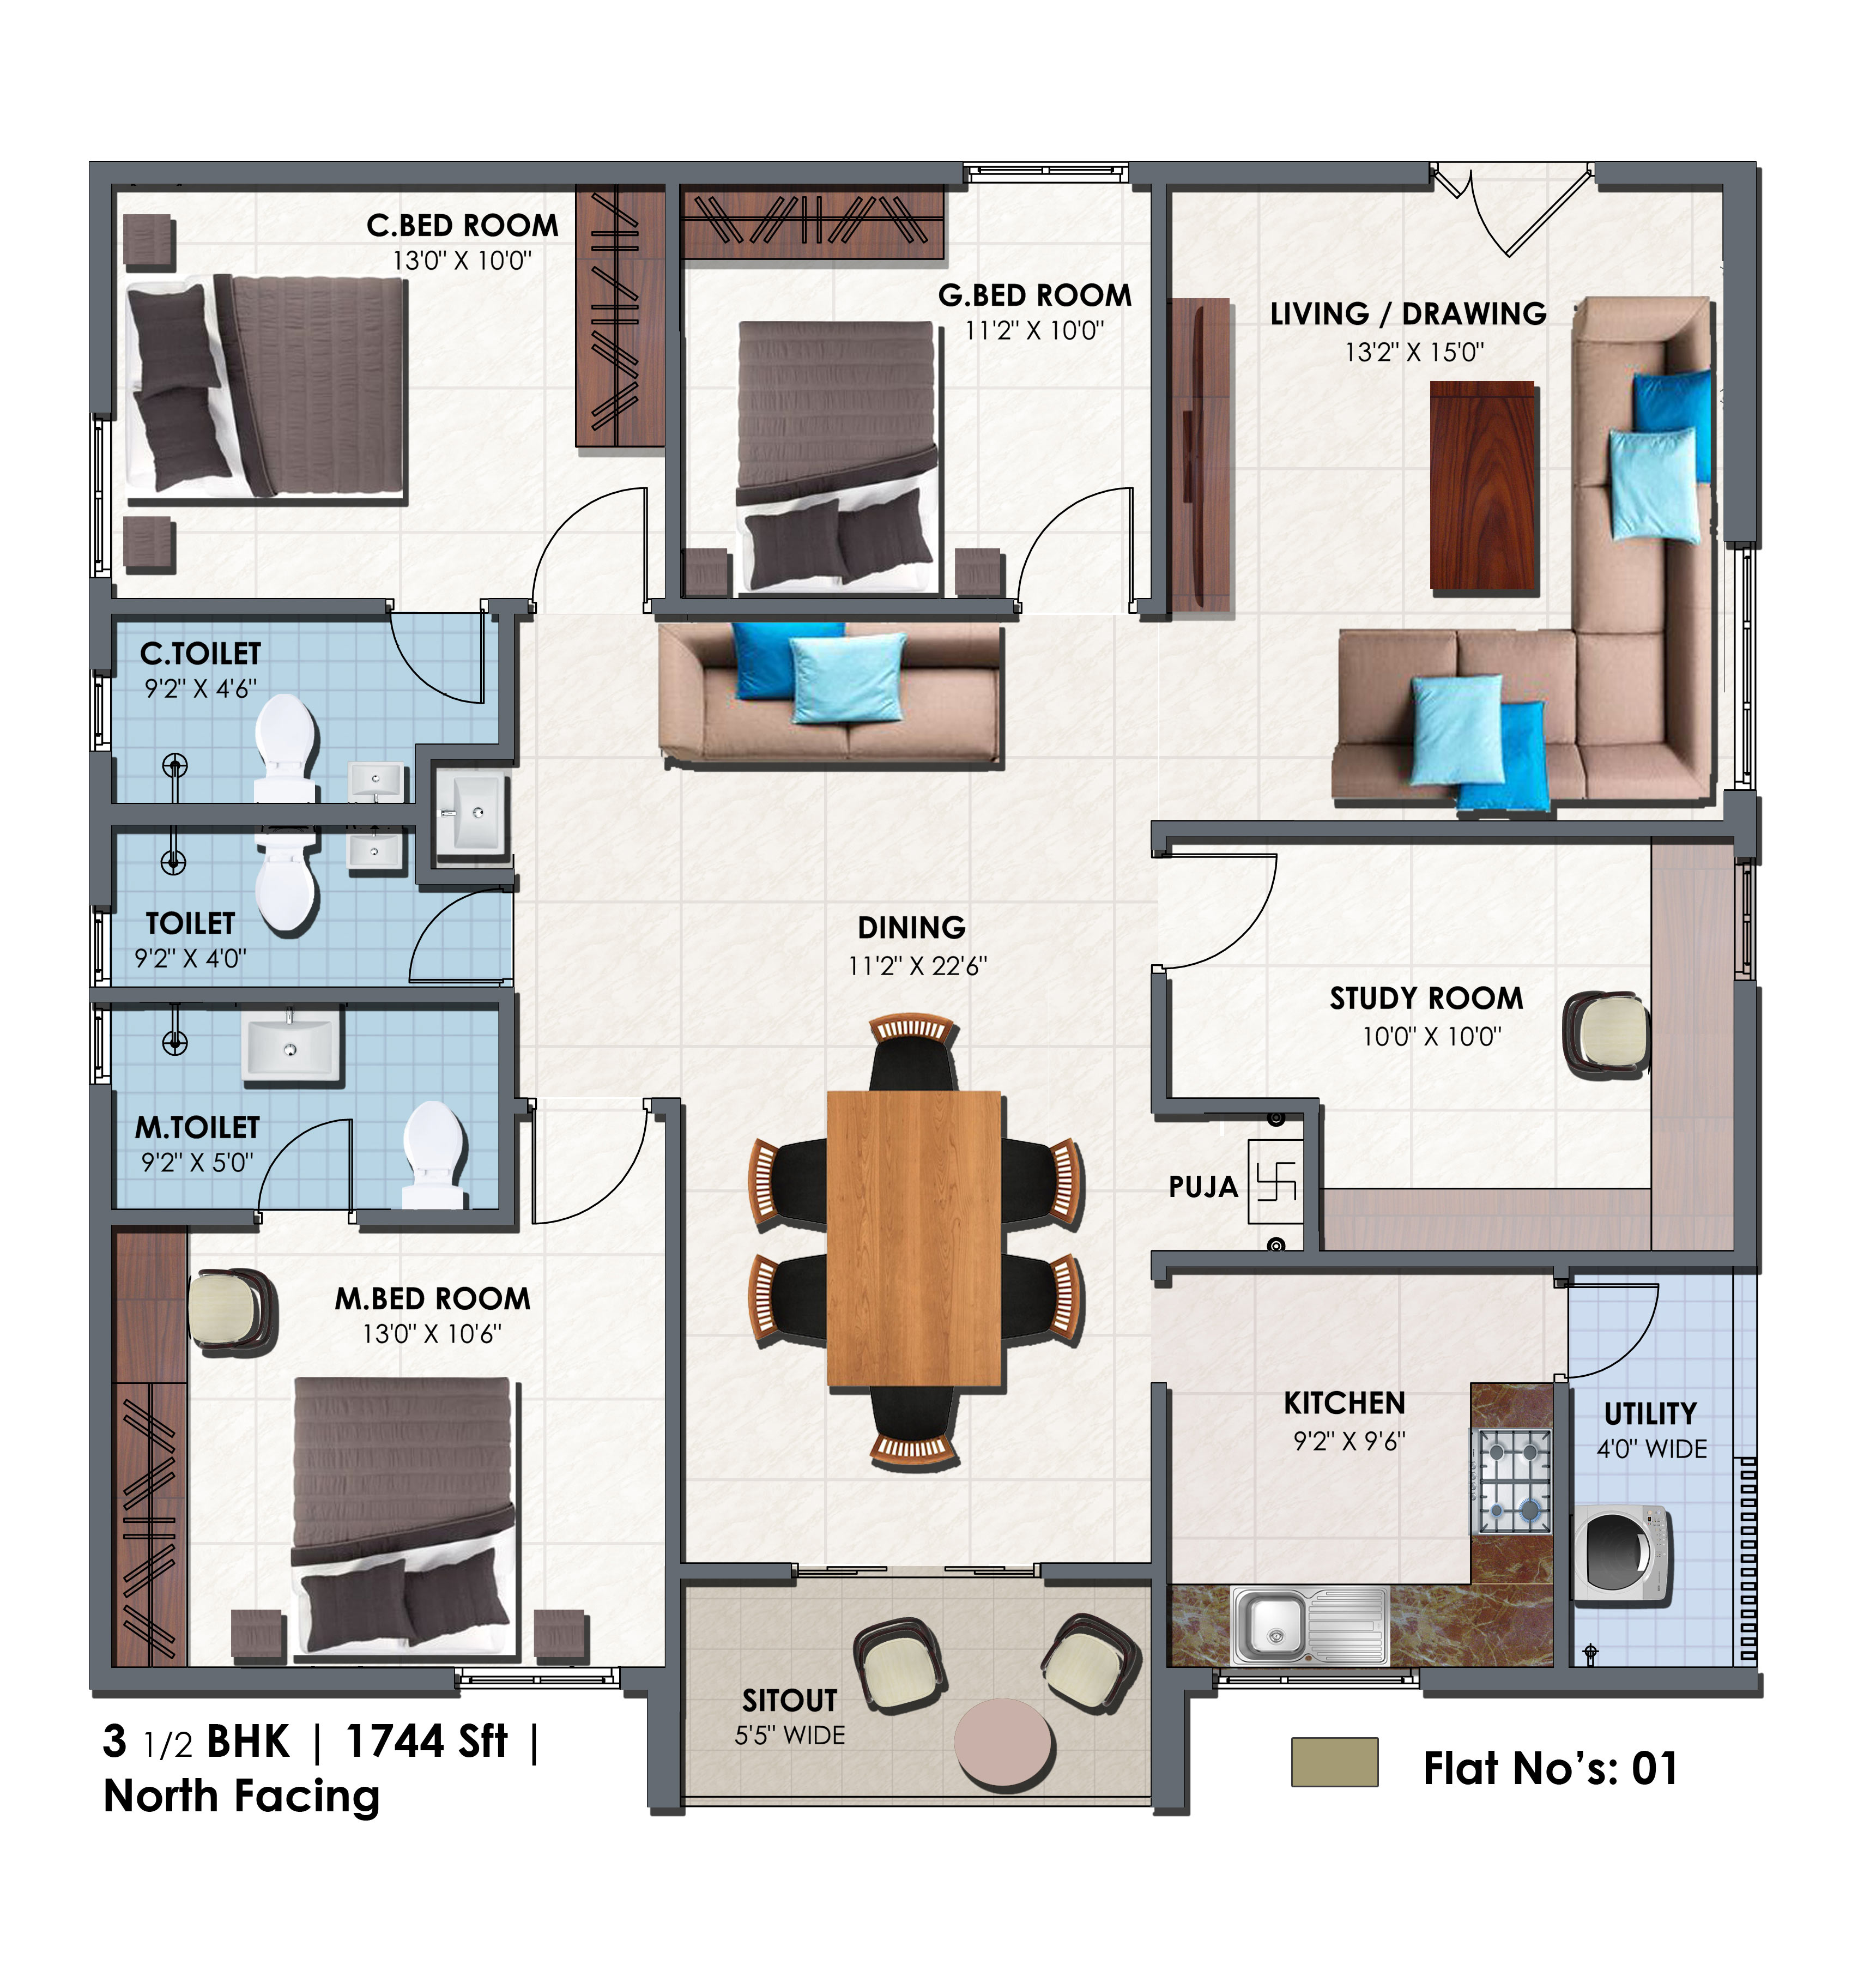window: (1211, 1667, 1420, 1695), (451, 1663, 625, 1695), (86, 410, 114, 583), (961, 158, 1133, 187), (86, 901, 116, 987), (86, 1000, 116, 1086), (88, 669, 114, 758)
